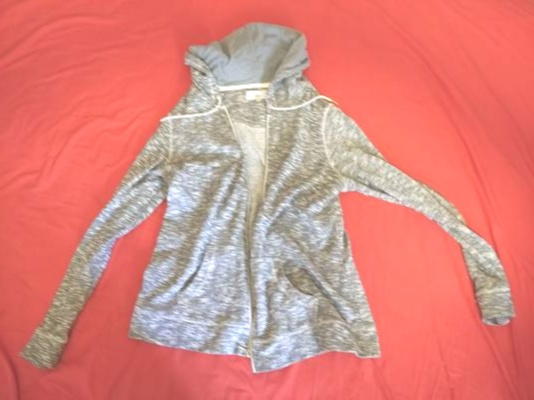Hoodie: (13, 14, 498, 390)
